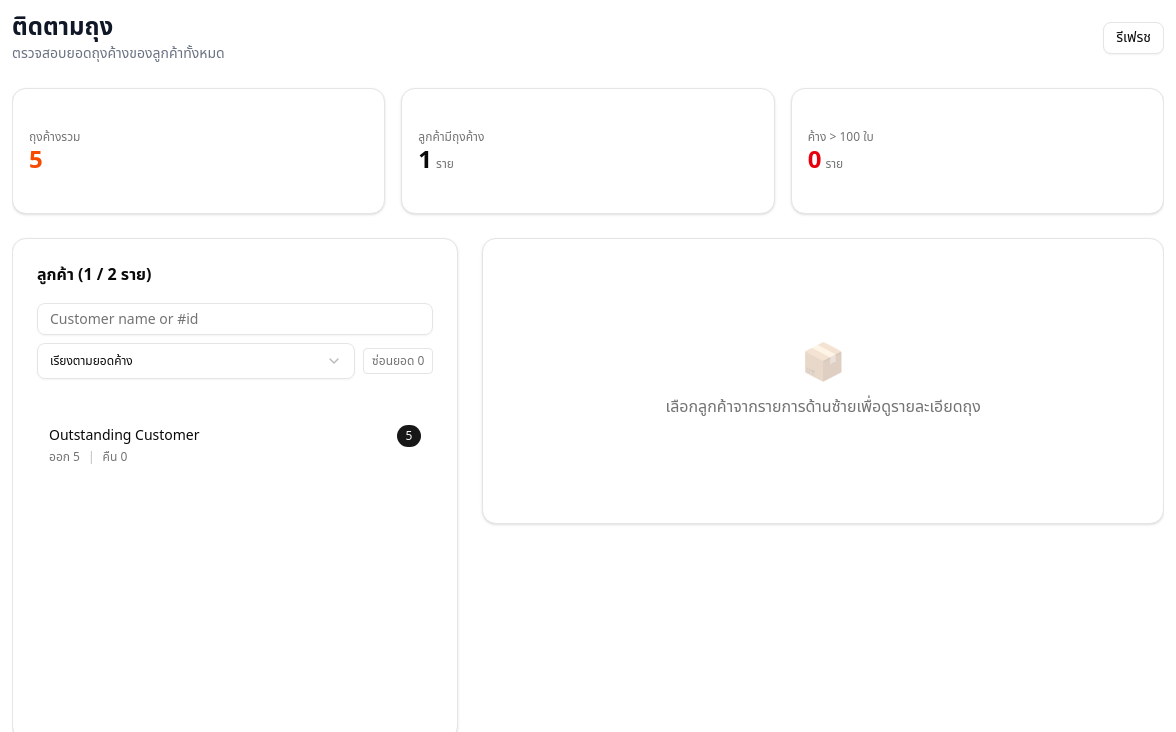
bags page search › keeps zero-balance customers searchable even when zero rows are hidden by default
This screenshot has width=1176, height=732.
Expected: the text "Outstanding Customer" is shown, [49, 426, 200, 446]
Expected: the text "Zero Balance Customer" is not shown
Type "Zero Balance" into the field with placeholder "Customer name or #id" at (235, 319), box [37, 303, 433, 335]
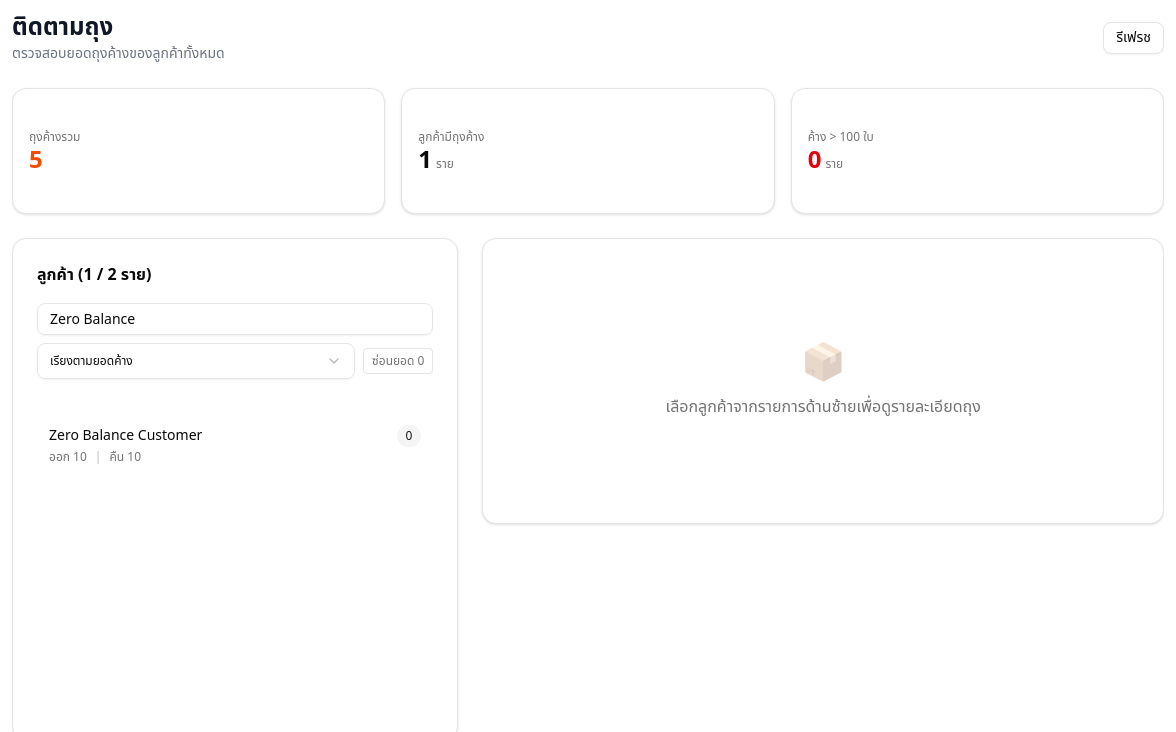
Now the text "Zero Balance Customer" is shown, box [49, 426, 202, 446]
